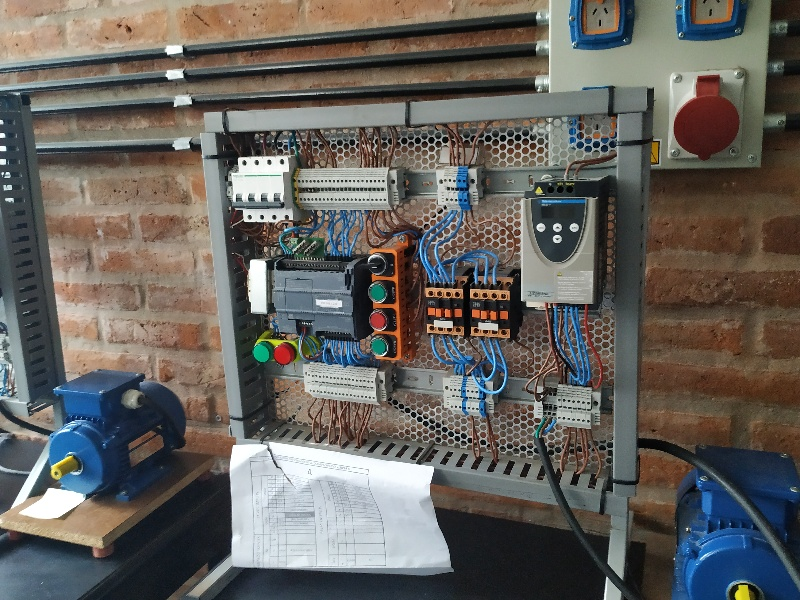Tablero 4: (207, 116, 626, 493)
